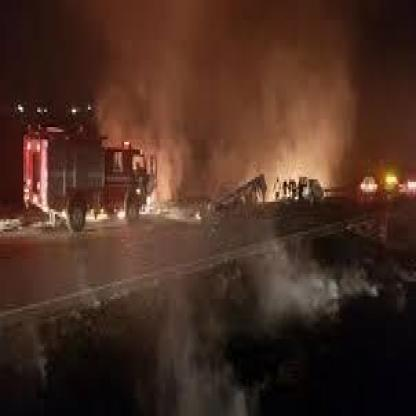smoke: (91, 13, 363, 178)
